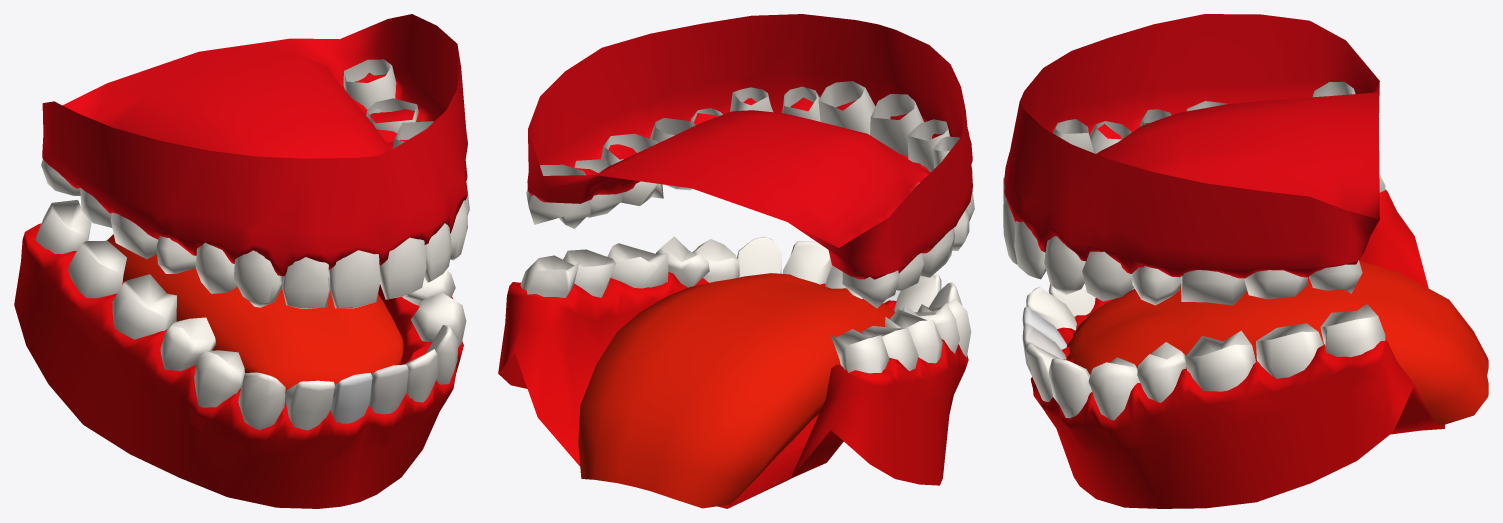
The picture shows the model from 3 angles, left to right: view 1: azimuth 30°, elevation 25°; view 2: azimuth 150°, elevation 25°; view 3: azimuth 270°, elevation 25°; orthographic projection. The views are drawn at different scales.
Visible parts, largest first — view 1: polySurface53.051, polySurface39.051, polySurface44.003, polySurface39.065, polySurface39.067, polySurface53.053, polySurface39.063, polySurface39.066, polySurface39.064, polySurface53.052, polySurface39.055, polySurface53.057 (+18 smaller); view 2: polySurface53.051, polySurface44.003, polySurface39.051, polySurface53.052, polySurface53.053, polySurface39.060, polySurface39.066, polySurface39.062, polySurface53.067, polySurface39.061, polySurface39.056, polySurface39.065 (+16 smaller); view 3: polySurface53.051, polySurface39.051, polySurface44.003, polySurface39.060, polySurface39.061, polySurface39.062, polySurface39.058, polySurface39.059, polySurface53.065, polySurface53.056, polySurface39.057, polySurface53.055 (+12 smaller).
Boxes of the visible parts, x1,y1,x2,y2 form: polySurface53.051: [42, 14, 467, 276]; polySurface39.051: [14, 223, 463, 508]; polySurface44.003: [107, 234, 403, 392]; polySurface39.065: [112, 274, 176, 339]; polySurface39.067: [68, 240, 126, 298]; polySurface53.053: [328, 250, 380, 308]; polySurface39.063: [194, 350, 244, 407]; polySurface39.066: [35, 200, 91, 254]; polySurface39.064: [160, 317, 216, 371]; polySurface53.052: [379, 237, 426, 299]; polySurface39.055: [238, 372, 285, 430]; polySurface53.057: [282, 257, 330, 308]; polySurface53.051: [527, 14, 972, 279]; polySurface44.003: [578, 273, 895, 508]; polySurface39.051: [498, 272, 968, 508]; polySurface53.052: [818, 81, 875, 134]; polySurface53.053: [870, 94, 923, 156]; polySurface39.060: [607, 243, 668, 288]; polySurface39.066: [830, 329, 889, 373]; polySurface39.062: [520, 255, 579, 297]; polySurface53.067: [526, 164, 590, 228]; polySurface39.061: [563, 249, 616, 297]; polySurface39.056: [782, 241, 831, 284]; polySurface39.065: [885, 309, 942, 363]; polySurface53.051: [1004, 14, 1379, 278]; polySurface39.051: [1030, 189, 1444, 508]; polySurface44.003: [1066, 260, 1488, 425]; polySurface39.060: [1185, 330, 1255, 391]; polySurface39.061: [1256, 323, 1323, 378]; polySurface39.062: [1320, 304, 1385, 357]; polySurface39.058: [1088, 357, 1140, 420]; polySurface39.059: [1137, 342, 1186, 402]; polySurface53.065: [1181, 270, 1247, 305]; polySurface53.056: [1082, 251, 1133, 301]; polySurface39.057: [1048, 358, 1091, 418]; polySurface53.055: [1044, 236, 1085, 294].
Size of the model in its own units: 0.0925 by 0.0892 by 0.1048.
